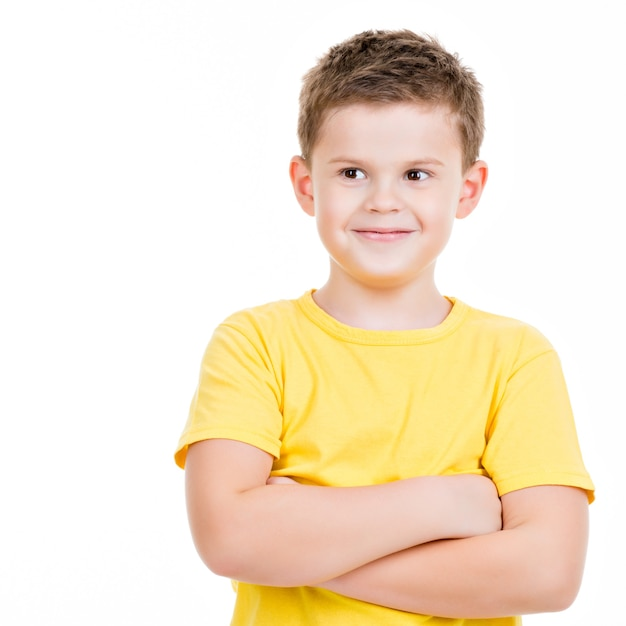teen: (292, 12, 503, 301)
